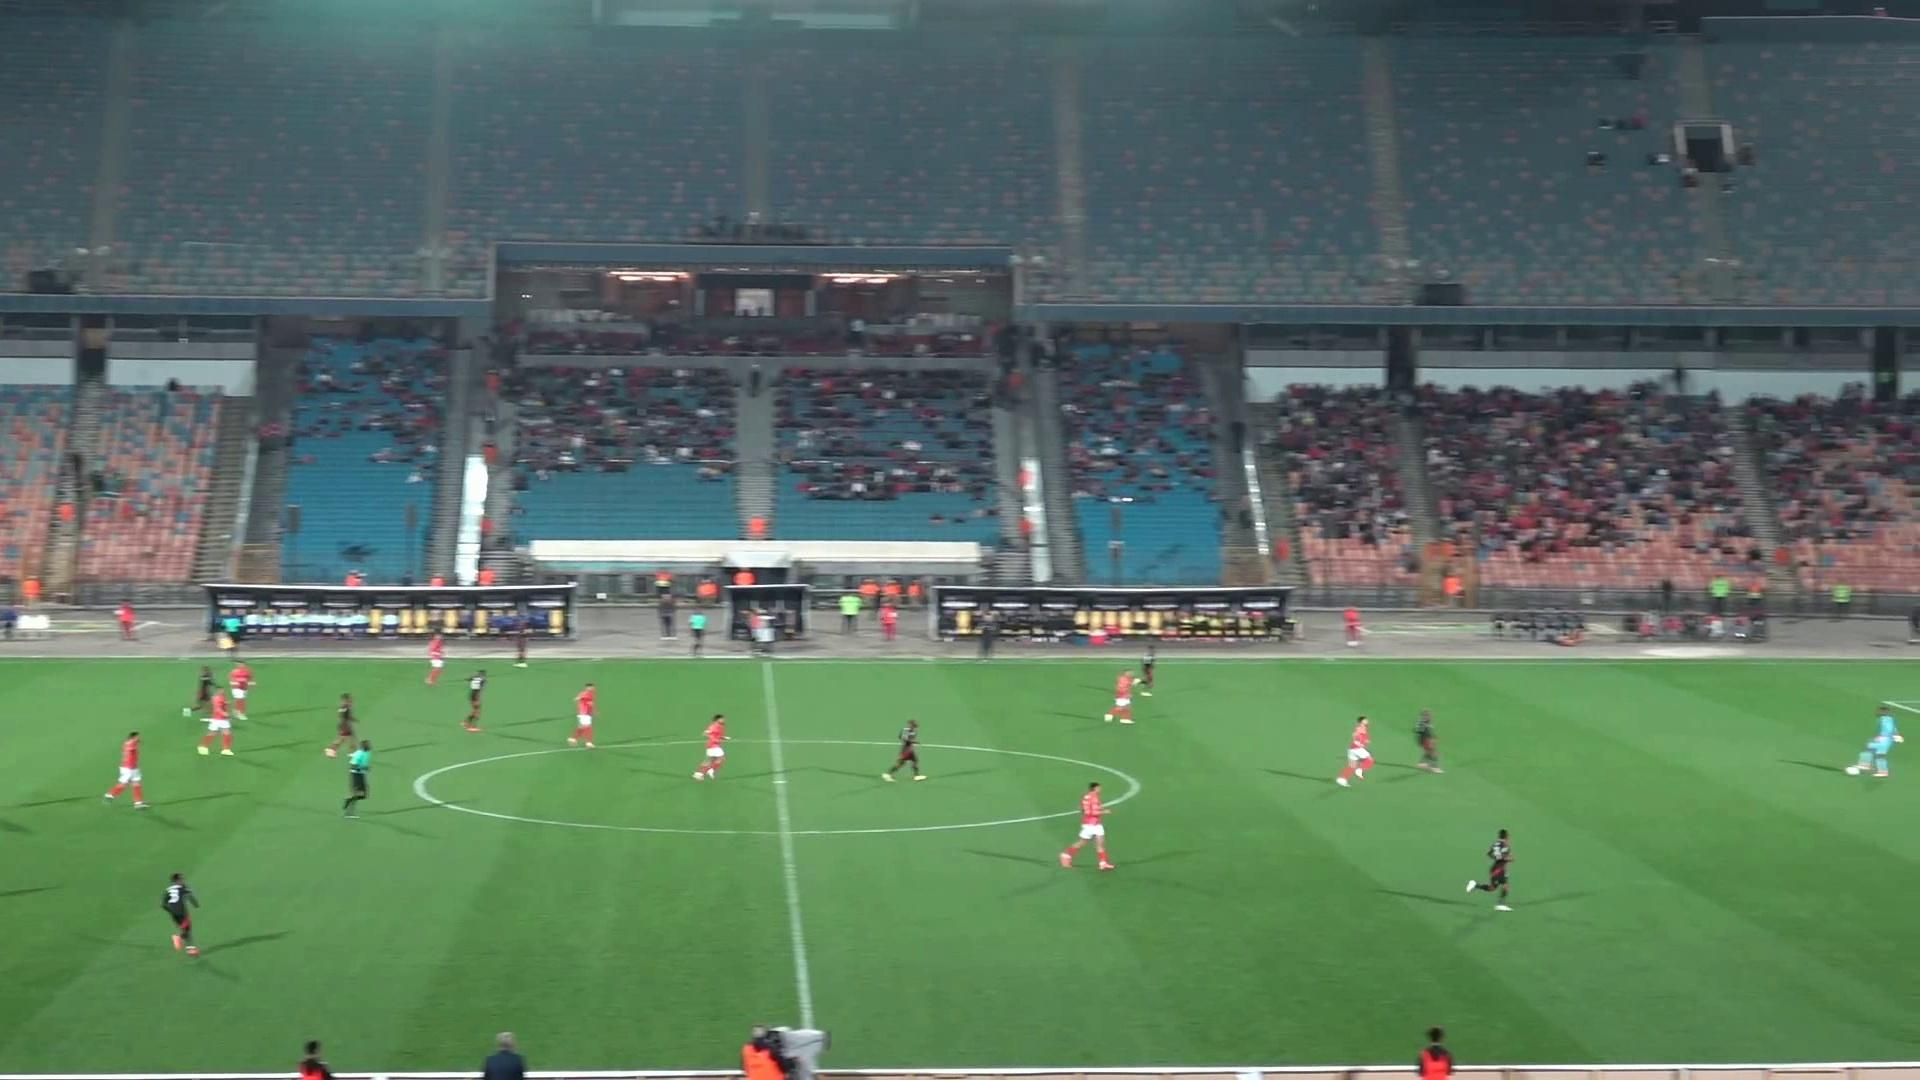Ball: (1844, 762, 1869, 775)
GK2: (1844, 702, 1904, 777)
Refree: (342, 738, 371, 816)
Team1: (1059, 782, 1114, 870), (104, 732, 145, 808), (1335, 715, 1374, 786), (196, 688, 233, 756), (694, 715, 727, 781), (566, 684, 593, 748), (425, 632, 444, 684)
Team2: (1466, 828, 1513, 909), (160, 872, 198, 955), (881, 719, 924, 781), (183, 665, 222, 719), (1412, 709, 1443, 771), (462, 670, 487, 731)
